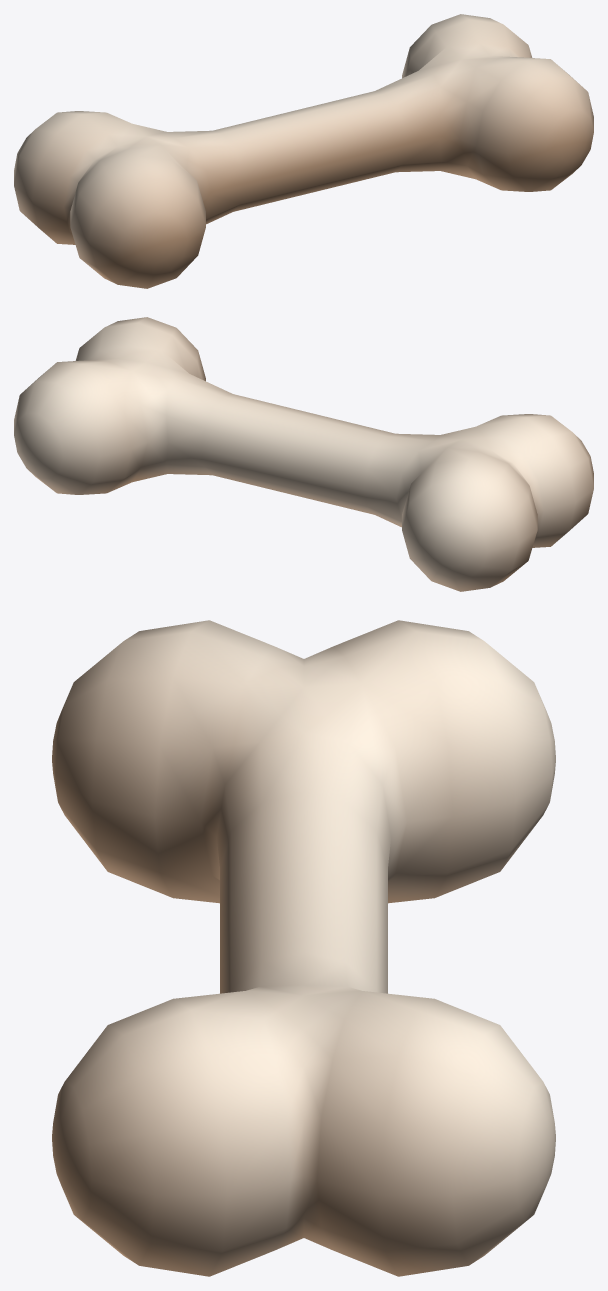
The model's file is Bone.FBX.
3 views of the same model, one above another, from view 1: azimuth 30°, elevation 25°; view 2: azimuth 150°, elevation 25°; view 3: azimuth 270°, elevation 25° (orthographic). The views are drawn at different scales.
Parts seen in each view (by area): view 1: Bone; view 2: Bone; view 3: Bone.
Part boxes in pixels (<box>): Bone: <box>14,14,593,288</box>; Bone: <box>14,317,593,591</box>; Bone: <box>52,620,555,1276</box>.
Size of the model in its own units: 32.21 by 7.76 by 13.91.
1 material, 1 textured.
